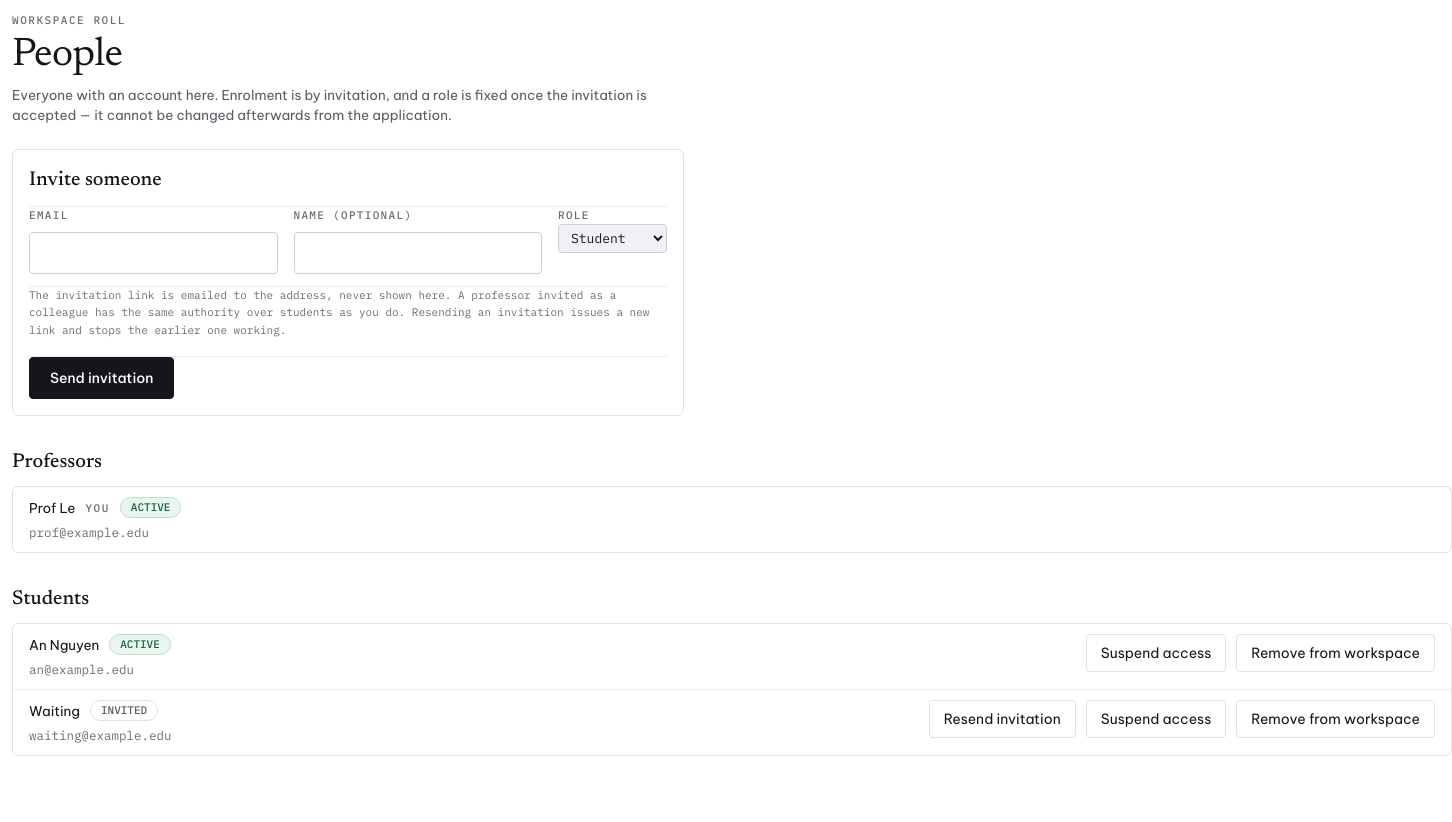
an invitation can be sent again, and only to someone who has not accepted one
Expected: the link "Waiting" is shown, [29,701,80,721]
Click the button with test id "resend-s2".
click(1002, 719)  # box [929,700,1076,738]
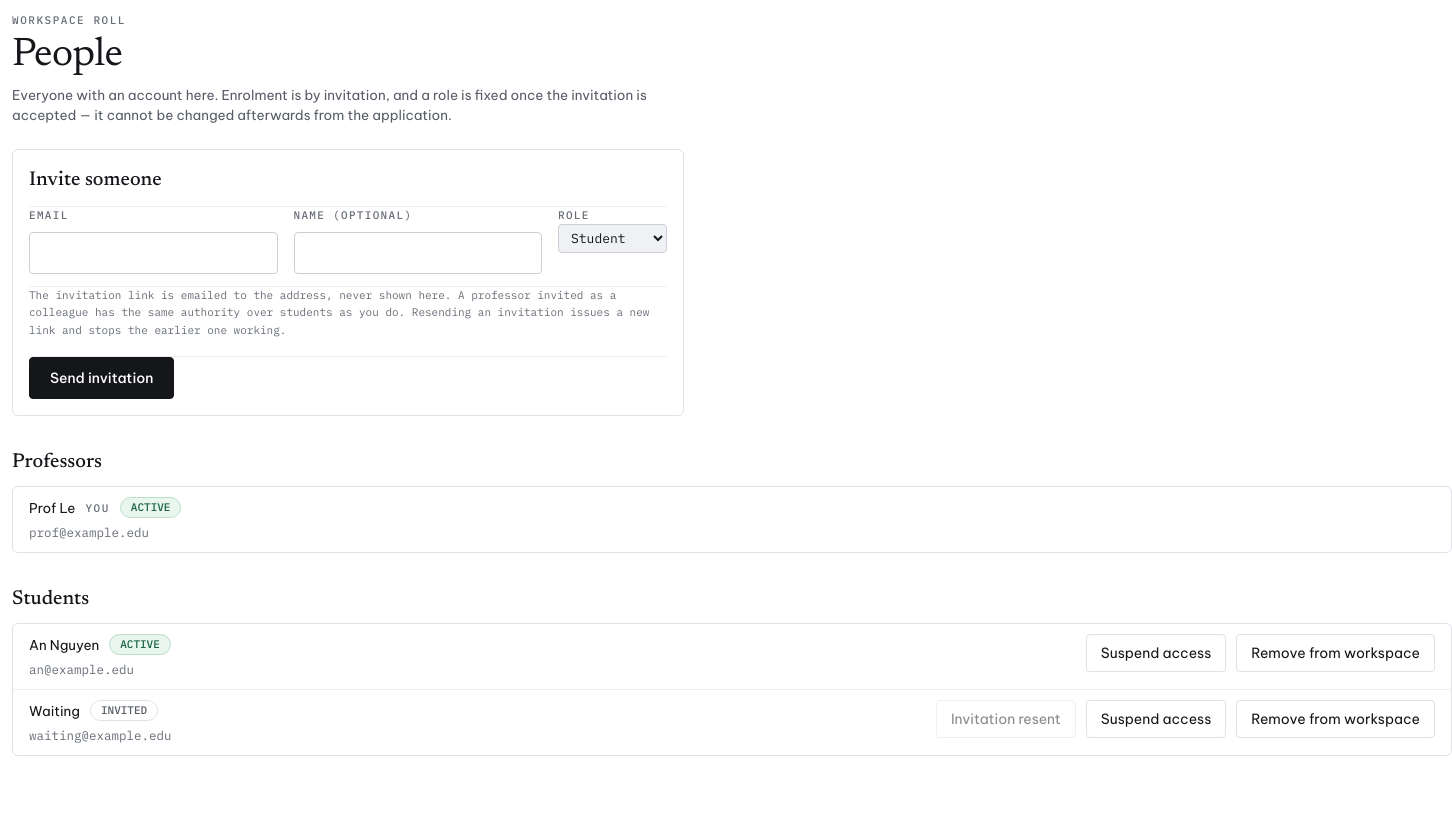
Expected: the text "stops the earlier one working" is shown, [29,288,649,337]
Result: the button "Invitation resent" is shown at [936,700,1076,738]
